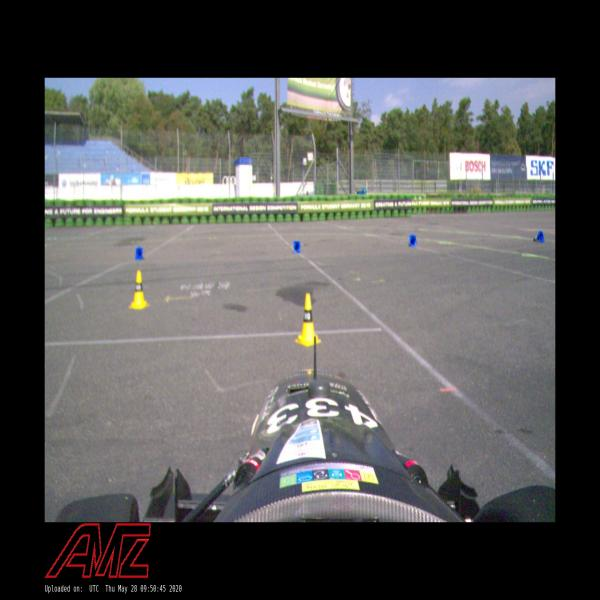blue_cone: (533, 230, 544, 242), (135, 247, 145, 260), (293, 240, 301, 253), (409, 234, 417, 247)
yellow_cone: (294, 292, 321, 346), (128, 270, 150, 309)
